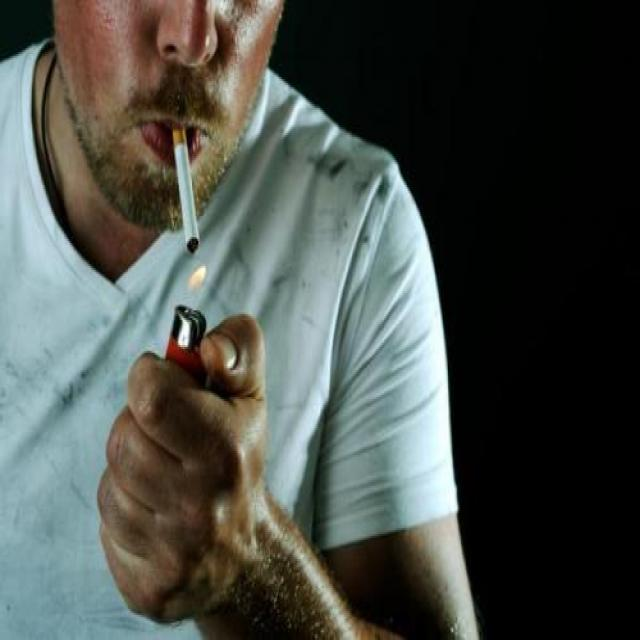smoking: (163, 116, 206, 255)
